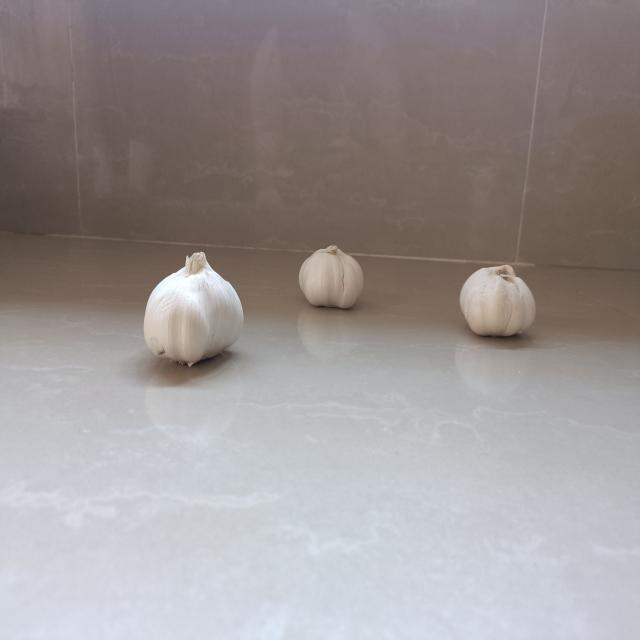garlic: (139, 250, 249, 371), (457, 255, 538, 344), (293, 234, 367, 314)
